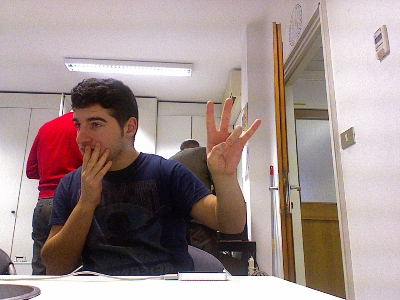观音: (203, 97, 261, 176)
